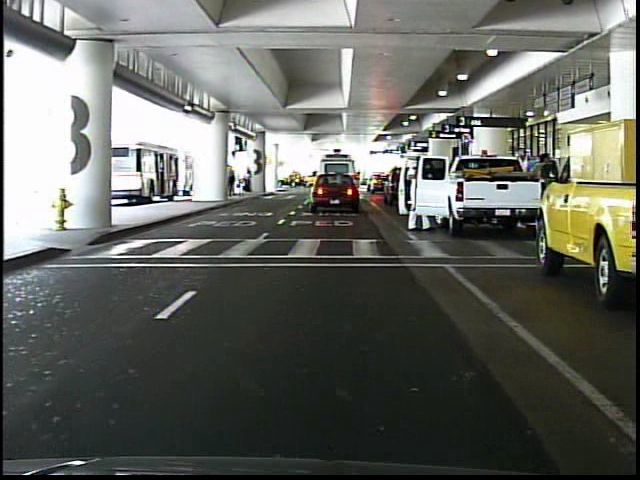person: (406, 149, 435, 234), (225, 163, 237, 198), (243, 165, 256, 195)
